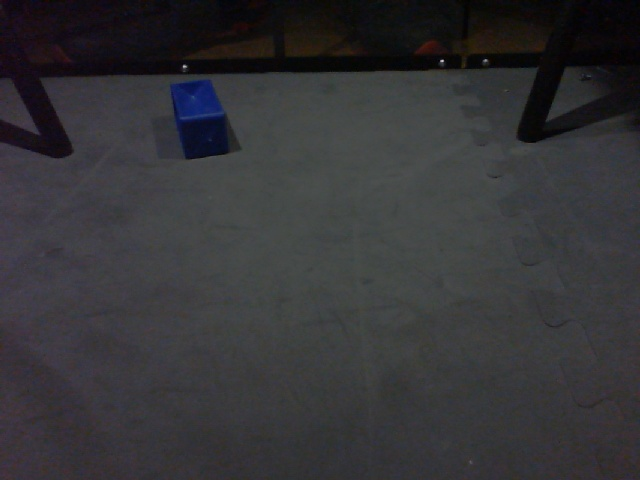BlueSample: (168, 76, 232, 160)
